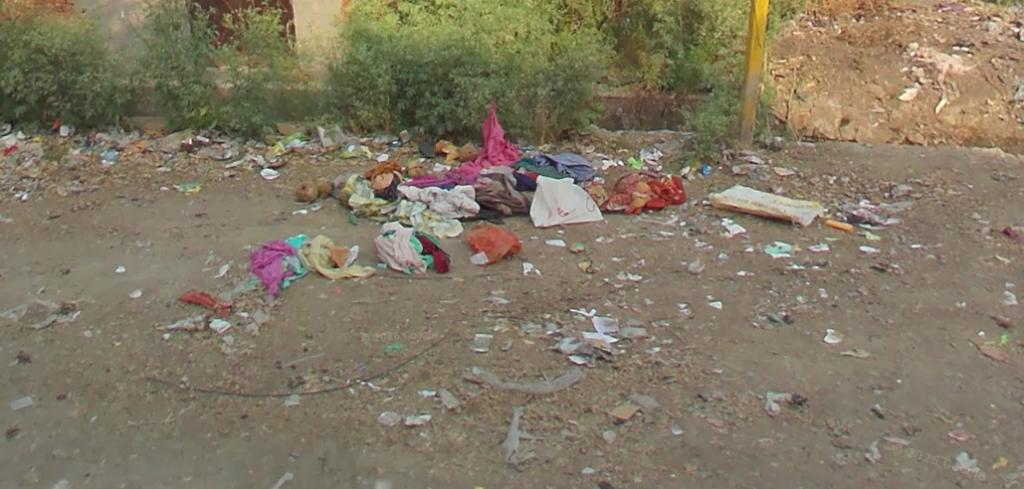garbage: (710, 179, 829, 235), (528, 174, 609, 235), (459, 218, 528, 270), (98, 145, 120, 169)
